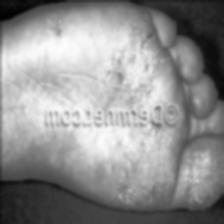Non-Cancerous Skin Condition: (101, 143, 219, 201), (86, 27, 161, 97)
